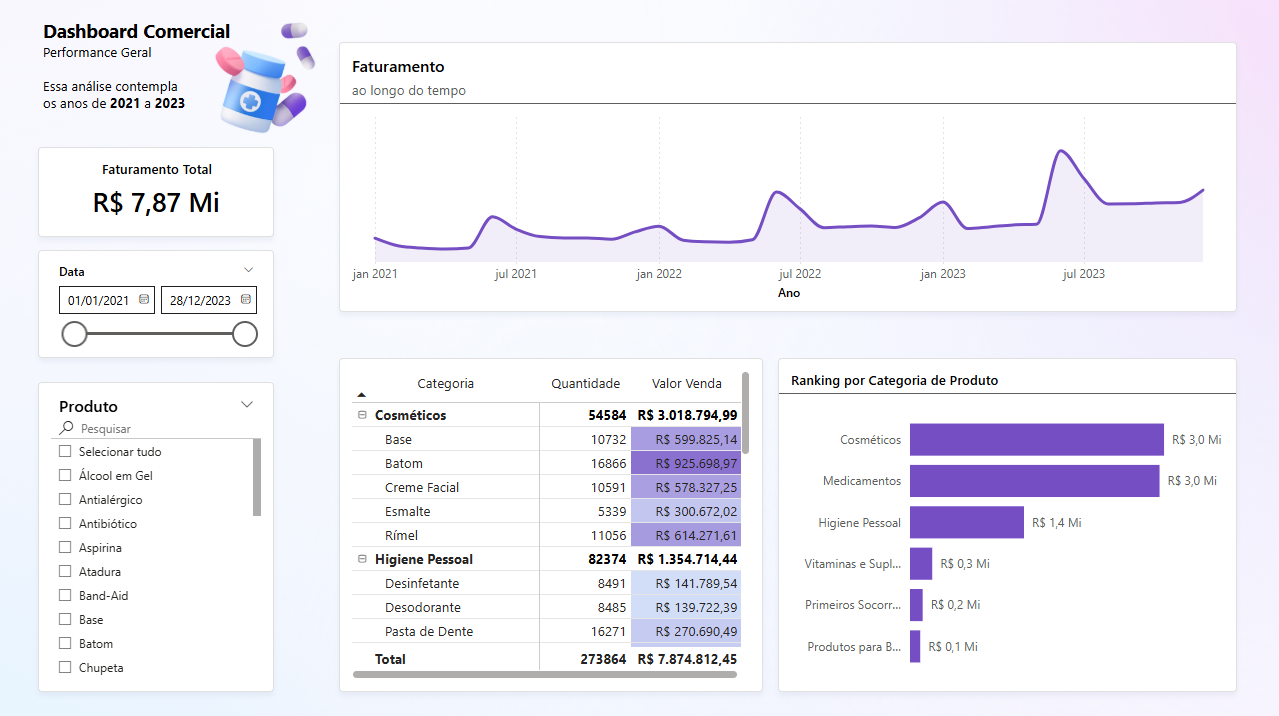

Layout of this report page (visuals, bound fields, positions):
{"tool":"powerbi","page":{"name":"Página 1","canvas":[1280,720],"ordinal":0},"visuals":[{"type":"card","title":"Faturamento Total","fields":{"Values":["Sum(Vendas.Valor Venda)"]},"box":[39,148.7,235.8,90.7],"z":0},{"type":"lineChart","title":"Faturamento","fields":{"Category":["Vendas.Data.Variation.Hierarquia de datas.Ano","Vendas.Data.Variation.Hierarquia de datas.Trimestre","Vendas.Data.Variation.Hierarquia de datas.Mês","Vendas.Data.Variation.Hierarquia de datas.Dia"],"Y":["Sum(Vendas.Valor Venda)"]},"box":[340,44,898,270],"z":1000},{"type":"barChart","title":"Ranking por Categoria de Produto","fields":{"Category":["Produtos.Categoria","Produtos.Produto"],"Y":["Sum(Vendas.Valor Venda)"]},"box":[779,360,459,334],"z":2000},{"type":"pivotTable","fields":{"Rows":["Produtos.Categoria","Produtos.Produto"],"Values":["Sum(Vendas.Quantidade)","Sum(Vendas.Valor Venda)"]},"box":[340,360,424,334],"z":3000},{"type":"slicer","fields":{"Values":["Vendas.Data"]},"box":[39,252.1,235.8,107.9],"z":4000},{"type":"slicer","fields":{"Values":["Produtos.Produto"]},"box":[39,384.5,235.8,309.2],"z":5000},{"type":"image","box":[149,23,233,115],"z":6000},{"type":"textbox","box":[39,15,238,123],"z":7000}]}

Visuals, with their boxes in screenshot pixels (x1, y1, x2, y2), scaled from the page's 1280x720 canvas onto the 1279x716 screenshot:
"Faturamento Total" card: detection(39, 148, 275, 238)
"Faturamento" lineChart: detection(340, 44, 1237, 312)
"Ranking por Categoria de Produto" barChart: detection(778, 358, 1237, 690)
pivotTable - Produtos.Categoria x Produtos.Produto: detection(340, 358, 763, 690)
slicer - Vendas.Data: detection(39, 251, 275, 358)
slicer - Produtos.Produto: detection(39, 382, 275, 690)
image: detection(149, 23, 382, 137)
textbox: detection(39, 15, 277, 137)
